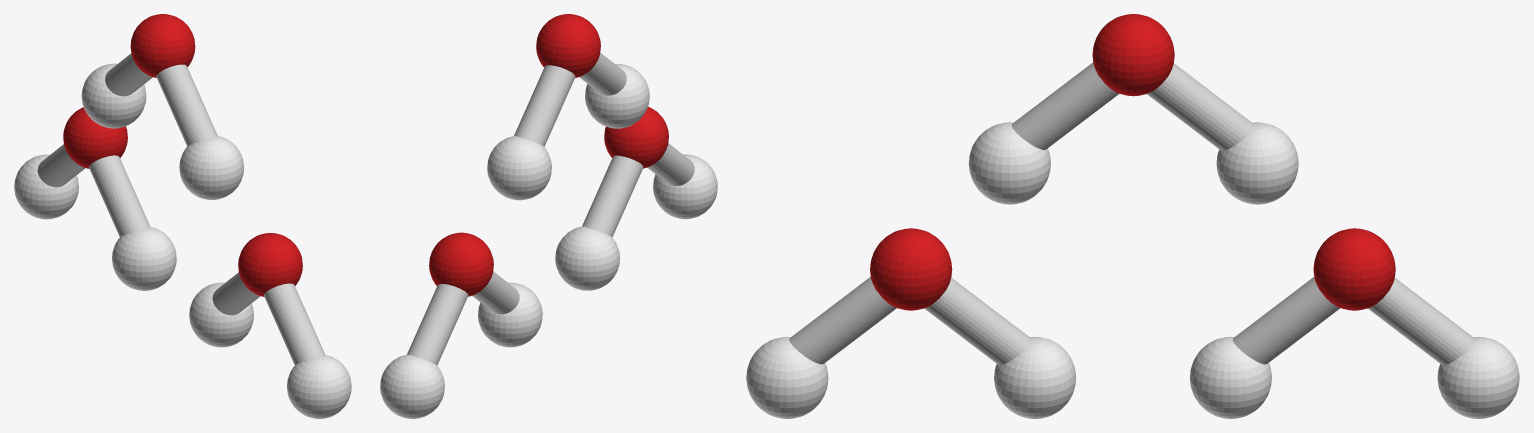
Rendered from VaporDeAgua.dae.
3 renders of one model, left to right at view 1: azimuth 30°, elevation 25°; view 2: azimuth 150°, elevation 25°; view 3: azimuth 270°, elevation 25°, orthographic. The views are drawn at different scales.
Visible parts, largest first — view 1: Sphere_005, Sphere, Sphere_006, Sphere_002, Sphere_008, Cylinder_004, Cylinder_003, Cylinder, Sphere_004, Sphere_001, Sphere_007, Sphere_003 (+3 smaller); view 2: Sphere_007, Sphere_001, Sphere_004, Sphere_003, Sphere_008, Cylinder_001, Cylinder_005, Cylinder_002, Sphere, Sphere_005, Sphere_006, Sphere_002 (+3 smaller); view 3: Sphere_003, Sphere_002, Sphere_008, Sphere_007, Sphere_001, Sphere_004, Sphere_006, Sphere_005, Sphere, Cylinder_003, Cylinder, Cylinder_004 (+3 smaller).
Part boxes in pixels (bbox=[...]): Sphere_005: bbox=[112, 226, 176, 290]; Sphere: bbox=[287, 355, 351, 418]; Sphere_006: bbox=[179, 136, 243, 199]; Sphere_002: bbox=[238, 233, 302, 296]; Sphere_008: bbox=[130, 14, 195, 77]; Cylinder_004: bbox=[156, 64, 217, 146]; Cylinder_003: bbox=[89, 155, 150, 236]; Cylinder: bbox=[264, 283, 325, 364]; Sphere_004: bbox=[14, 154, 78, 219]; Sphere_001: bbox=[189, 282, 253, 347]; Sphere_007: bbox=[81, 63, 146, 128]; Sphere_003: bbox=[63, 107, 127, 168]; Sphere_007: bbox=[487, 136, 551, 200]; Sphere_001: bbox=[555, 226, 619, 290]; Sphere_004: bbox=[380, 354, 444, 418]; Sphere_003: bbox=[429, 232, 493, 296]; Sphere_008: bbox=[536, 14, 600, 77]; Cylinder_001: bbox=[582, 155, 643, 237]; Cylinder_005: bbox=[514, 65, 575, 146]; Cylinder_002: bbox=[407, 284, 468, 365]; Sphere: bbox=[653, 154, 717, 219]; Sphere_005: bbox=[478, 282, 542, 347]; Sphere_006: bbox=[585, 64, 649, 128]; Sphere_002: bbox=[604, 106, 668, 168]; Sphere_003: bbox=[1313, 228, 1395, 310]; Sphere_002: bbox=[870, 228, 952, 310]; Sphere_008: bbox=[1092, 14, 1174, 96]; Sphere_007: bbox=[1216, 122, 1298, 204]; Sphere_001: bbox=[994, 336, 1076, 418]; Sphere_004: bbox=[1437, 336, 1519, 418]; Sphere_006: bbox=[968, 122, 1050, 204]; Sphere_005: bbox=[1189, 336, 1271, 418]; Sphere: bbox=[746, 336, 828, 418]; Cylinder_003: bbox=[1233, 277, 1340, 364]; Cylinder: bbox=[789, 277, 896, 364]; Cylinder_004: bbox=[1011, 62, 1119, 149].
Size of the model in its own units: 1.66 by 11.53 by 6.34.
